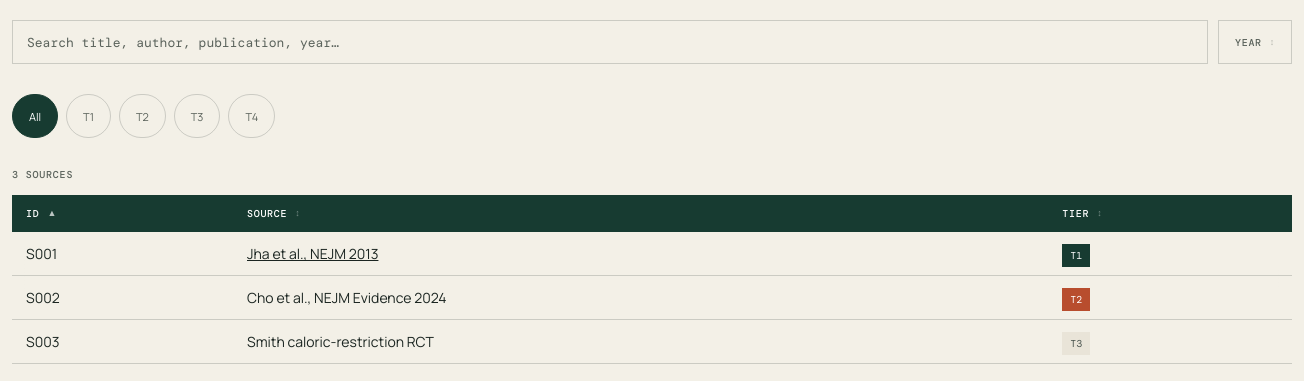
Test: SourcesTable › shows a search-specific empty state when nothing matches
In the search field: [610, 42] box [12,20,1208,64], type "zzzznomatch"
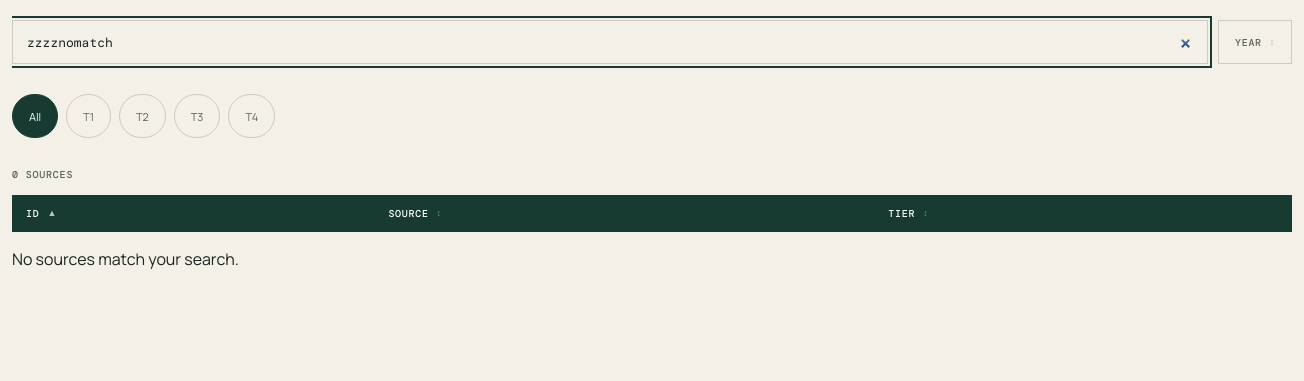
Now the text "No sources match your search." is shown, box [12,248,239,270]
